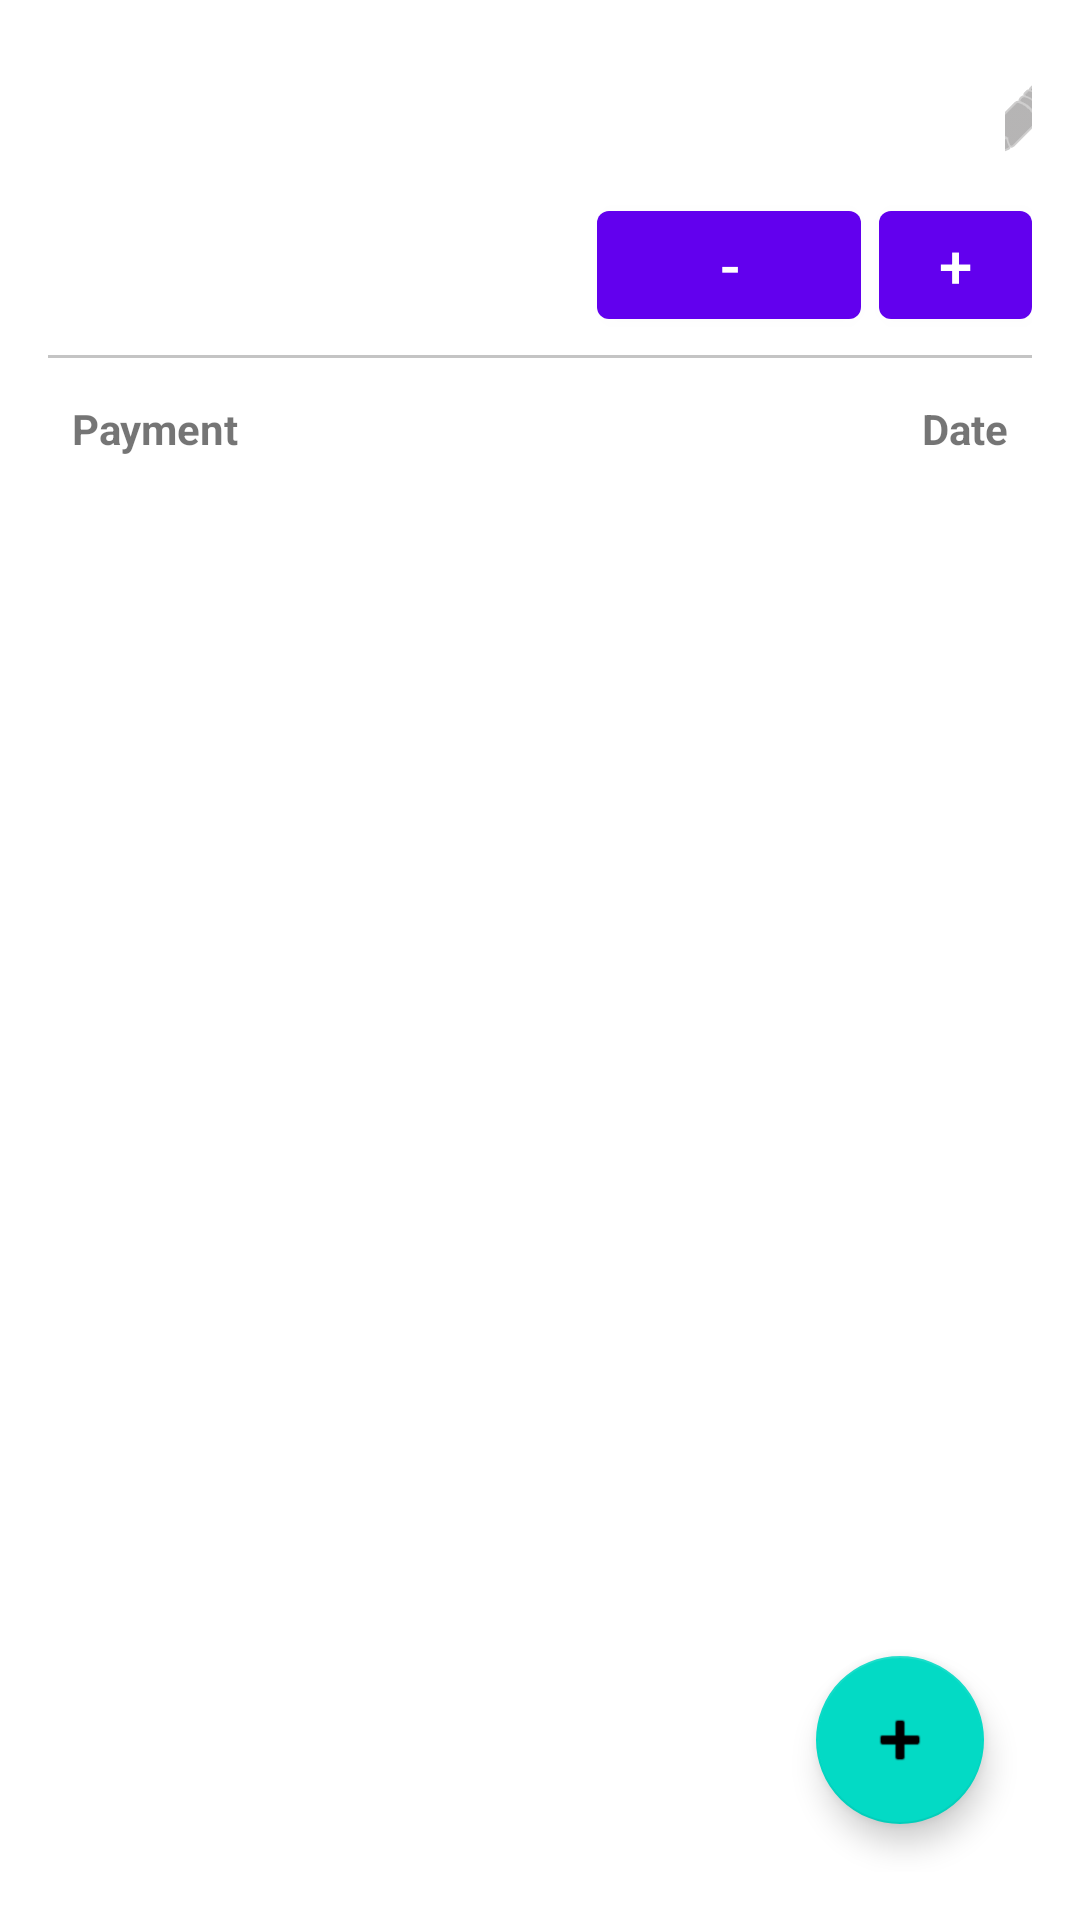

Screen size 1080x1920. Icon name, then its box in pixels as (x1, y1, x2, y2):
add: (816, 1656, 984, 1824)
edit: (1005, 86, 1032, 151)
